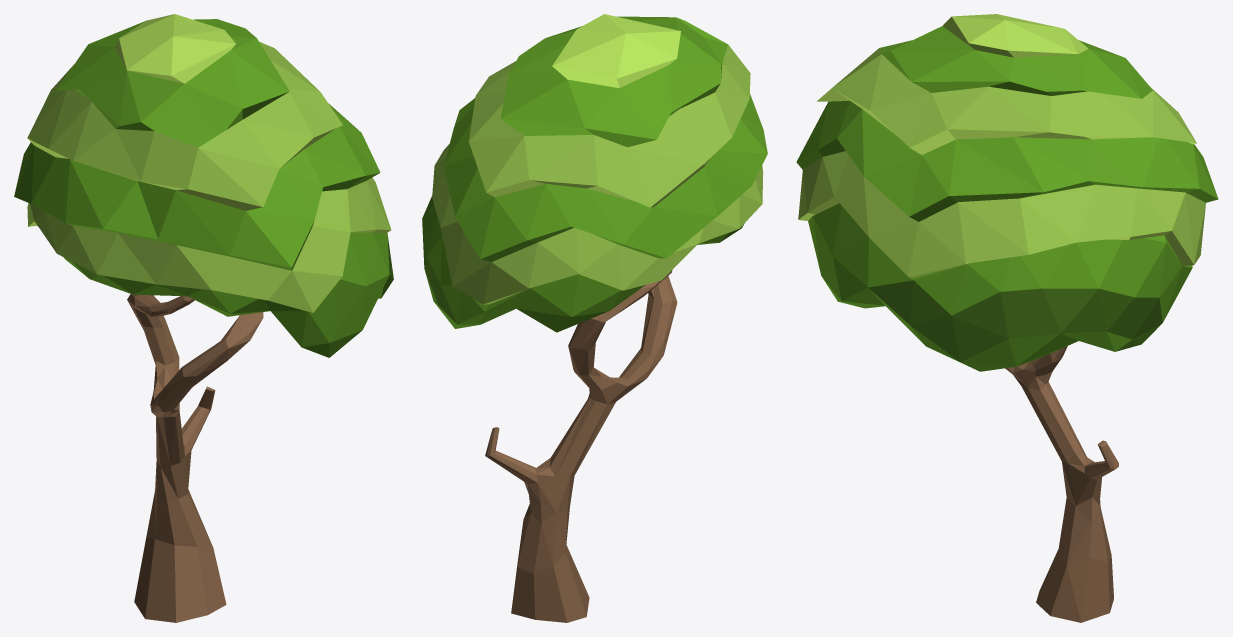
Rendered from low_poly_tree_with_twisting_branches.glb.
3 views of the same model, side by side, from view 1: azimuth 30°, elevation 25°; view 2: azimuth 150°, elevation 25°; view 3: azimuth 270°, elevation 25° (orthographic). The views are drawn at different scales.
Parts seen in each view (by area): view 1: Tree_winding_01; view 2: Tree_winding_01; view 3: Tree_winding_01.
Boxes of the visible parts, x1,y1,x2,y2 form: Tree_winding_01: [14, 14, 393, 622]; Tree_winding_01: [422, 14, 767, 622]; Tree_winding_01: [796, 14, 1218, 622].
Bounding box in the file's own units: 4.07 × 7.46 × 5.05.
Materials: 1 (1 with a texture image).
